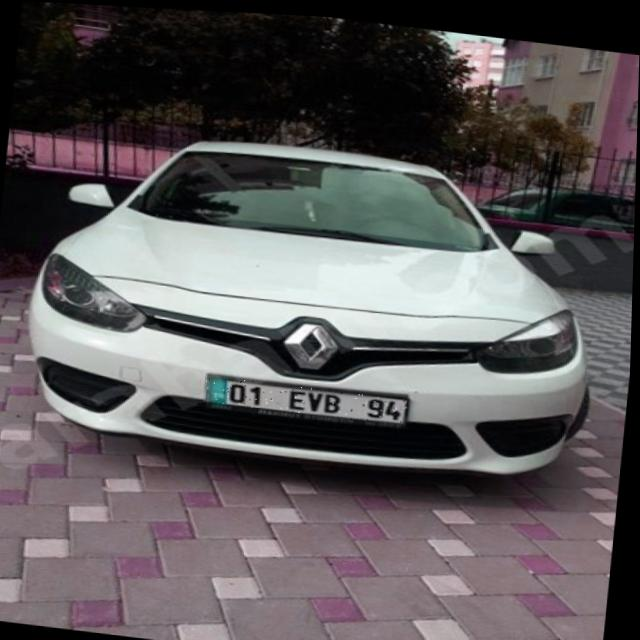license_plate: (206, 373, 410, 421)
